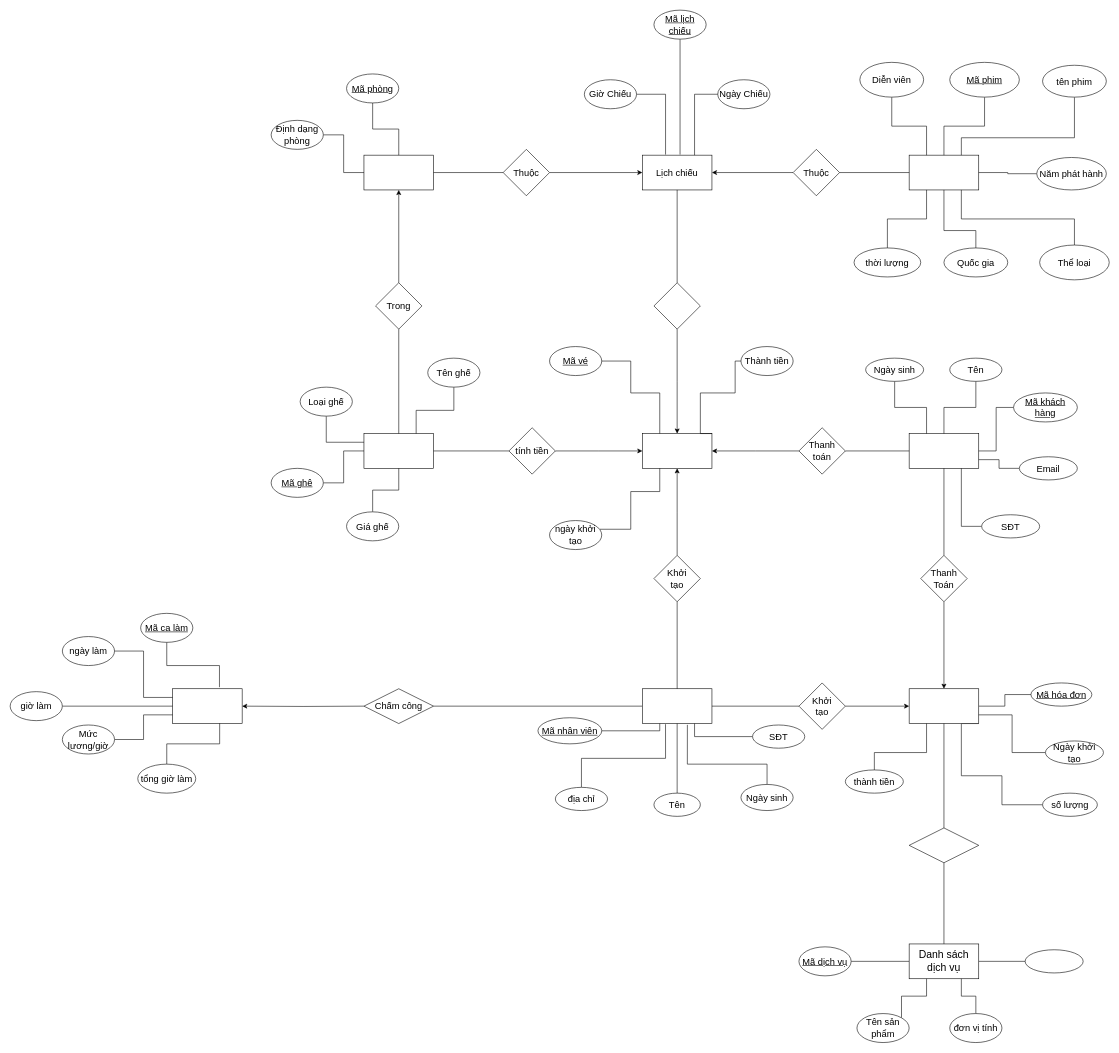
This 1119x1053 diagram has some shape labels left out. Here are the shapes that lost their labels. From the top down, the centre of each, then its label:
point 398,172: Phòng chiếu
point 944,172: Phim
point 676,305: Gồm
point 398,450: Ghế
point 677,450: Vé
point 944,450: Khách hàng
point 207,706: Ca làm
point 677,706: Nhân viên
point 944,706: Hóa đơn dịch vụ
point 944,845: sử dụng
point 1054,961: đơn giá
